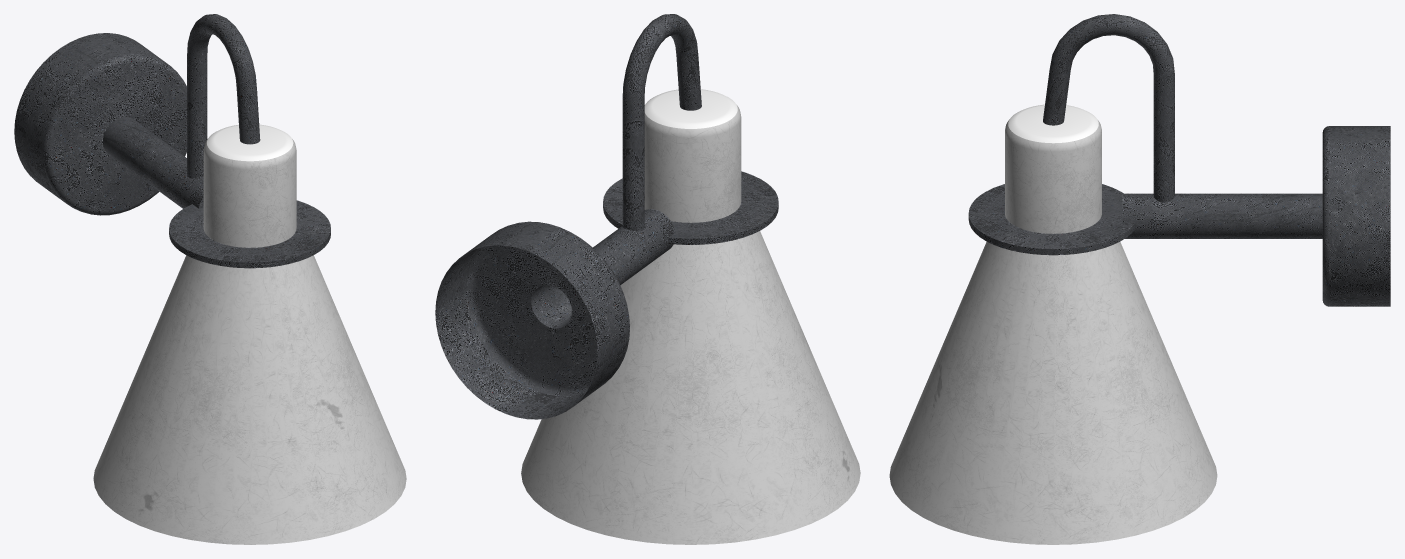
File: wall Lamp02.glb
3 views of the same model, side by side, from view 1: azimuth 30°, elevation 25°; view 2: azimuth 150°, elevation 25°; view 3: azimuth 270°, elevation 25° (orthographic). The views are drawn at different scales.
Visible parts, largest first — view 1: argon_4704.001, argon_4704.003; view 2: argon_4704.001, argon_4704.003; view 3: argon_4704.001, argon_4704.003.
Boxes of the visible parts, box(x1,y1,x2,y2) form: argon_4704.001: box(93, 139, 406, 544); argon_4704.003: box(14, 14, 330, 268); argon_4704.001: box(521, 105, 860, 544); argon_4704.003: box(435, 14, 778, 419); argon_4704.001: box(889, 119, 1217, 544); argon_4704.003: box(968, 14, 1390, 306).
Bounding box in the file's own units: 0.145 × 0.2255 × 0.2215.
Materials: 4 (2 with a texture image).
